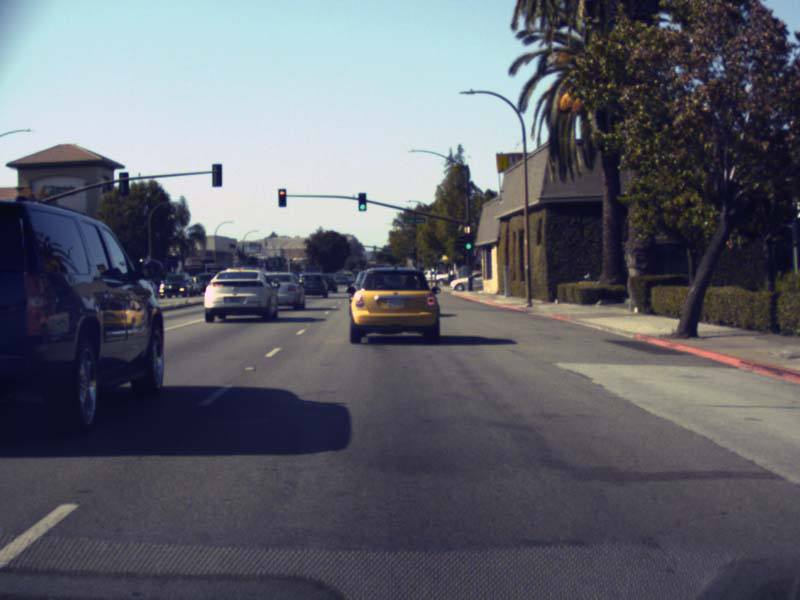Green: (463, 234, 473, 250), (358, 192, 366, 211)
Red: (277, 188, 286, 207)
